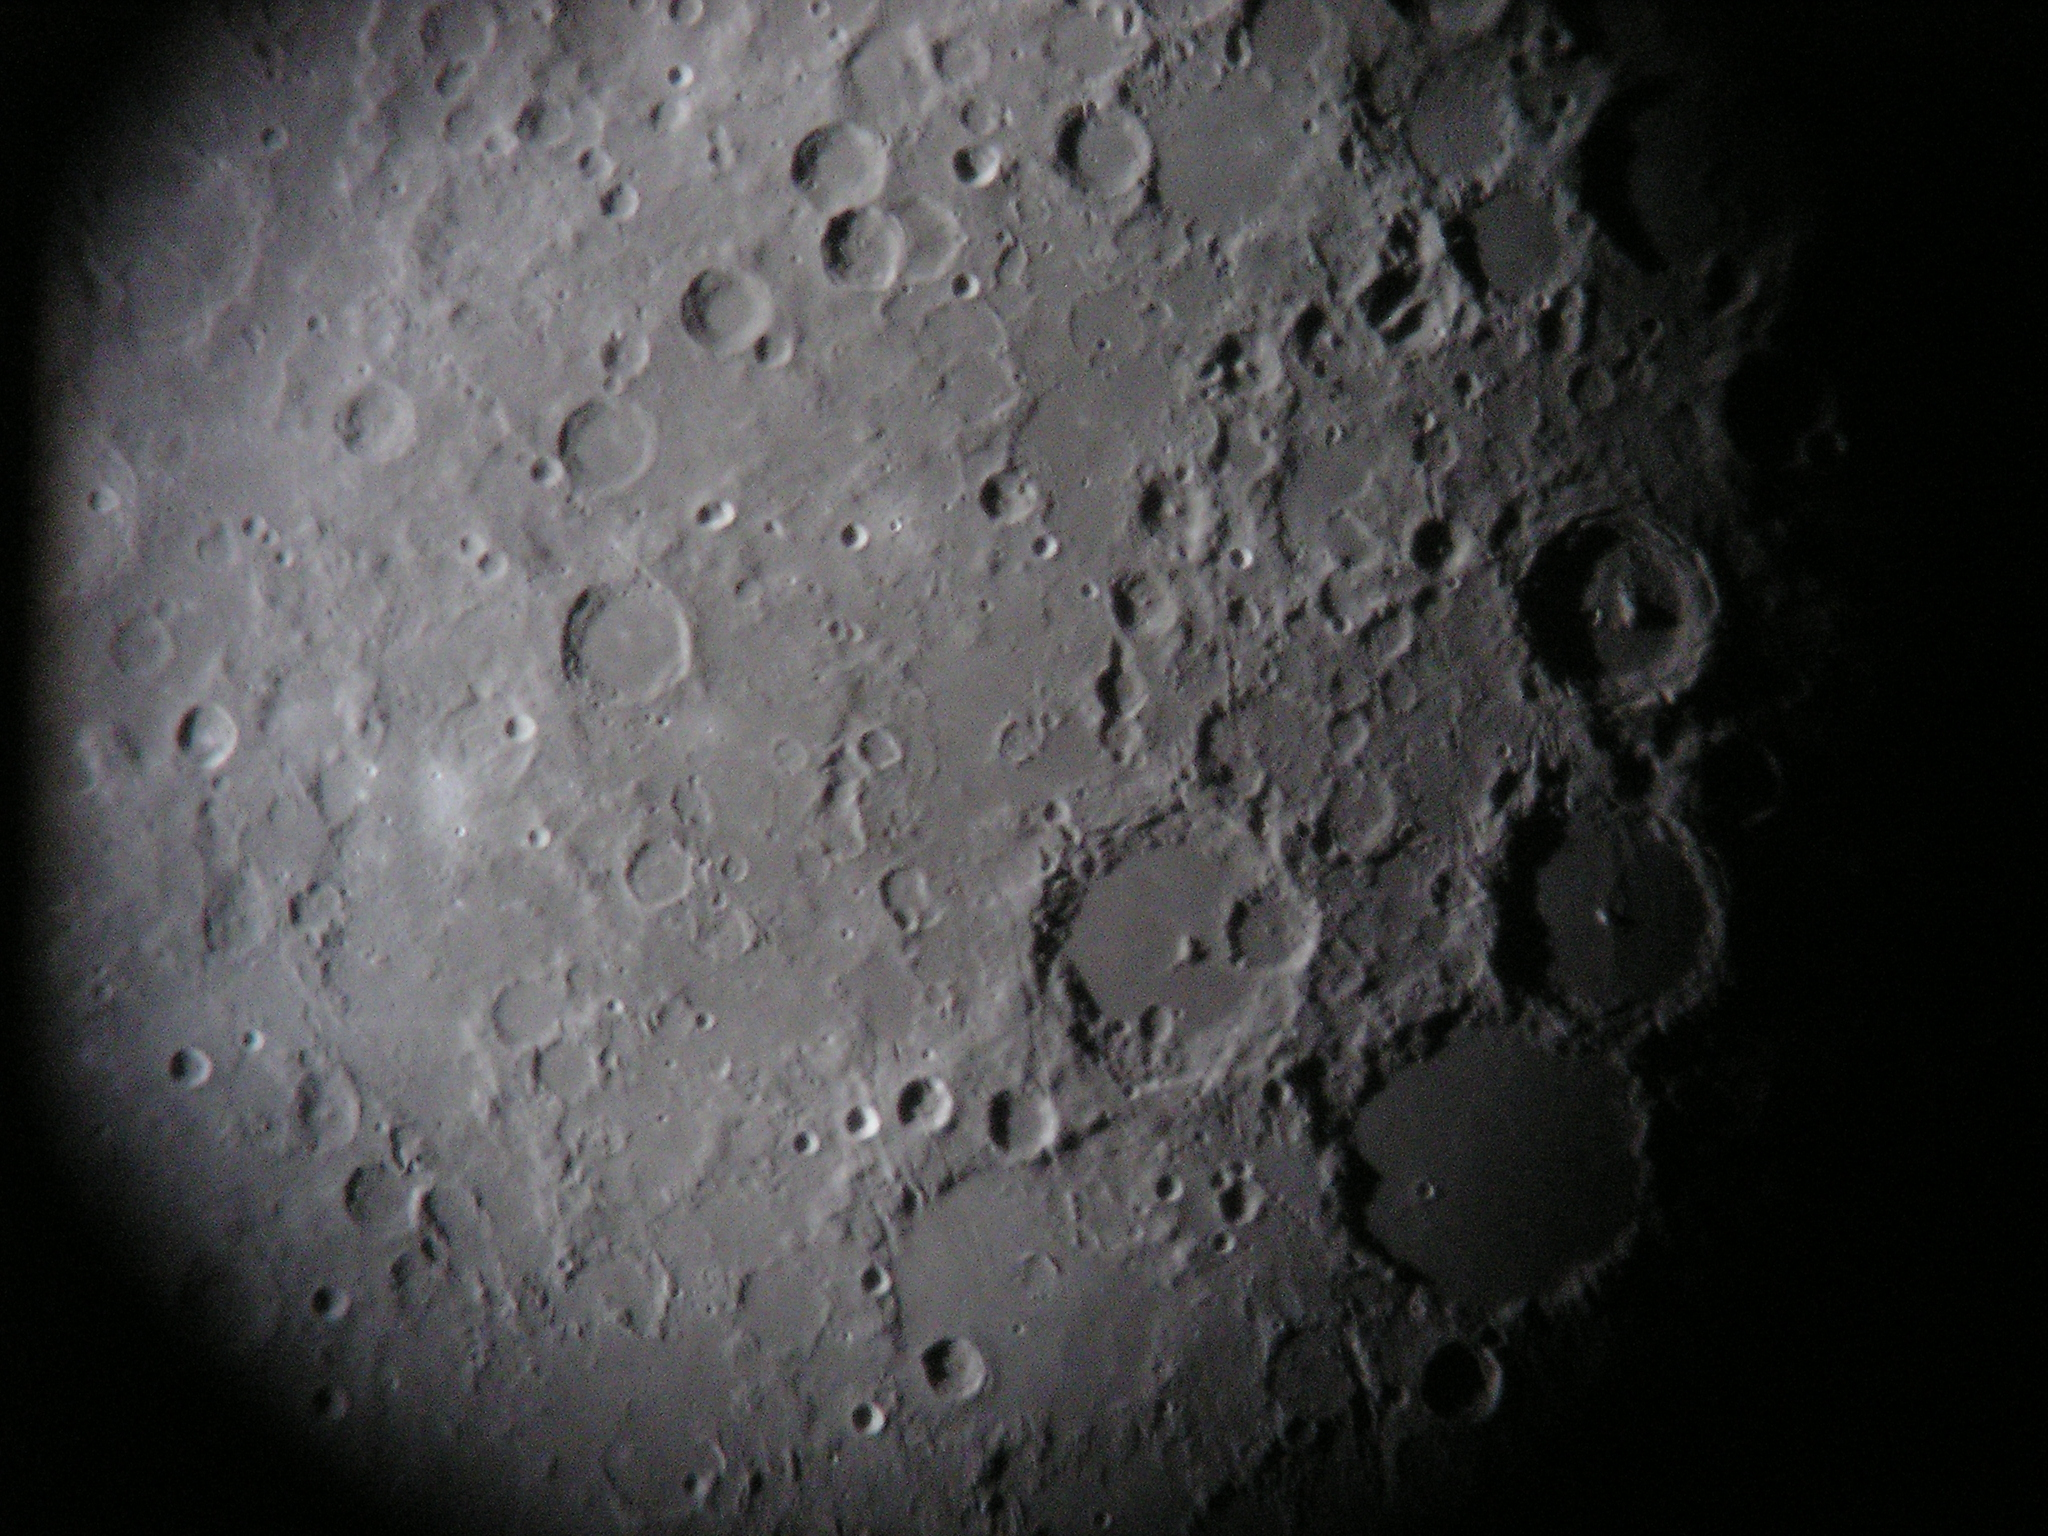crater: (1317, 981, 1701, 1347), (1492, 482, 1729, 731), (1021, 69, 1185, 240), (539, 570, 713, 715), (311, 369, 455, 492), (660, 232, 777, 365), (147, 679, 266, 778), (906, 1318, 1006, 1410), (142, 1023, 235, 1115), (240, 108, 308, 169), (402, 750, 469, 805), (871, 497, 914, 557)
